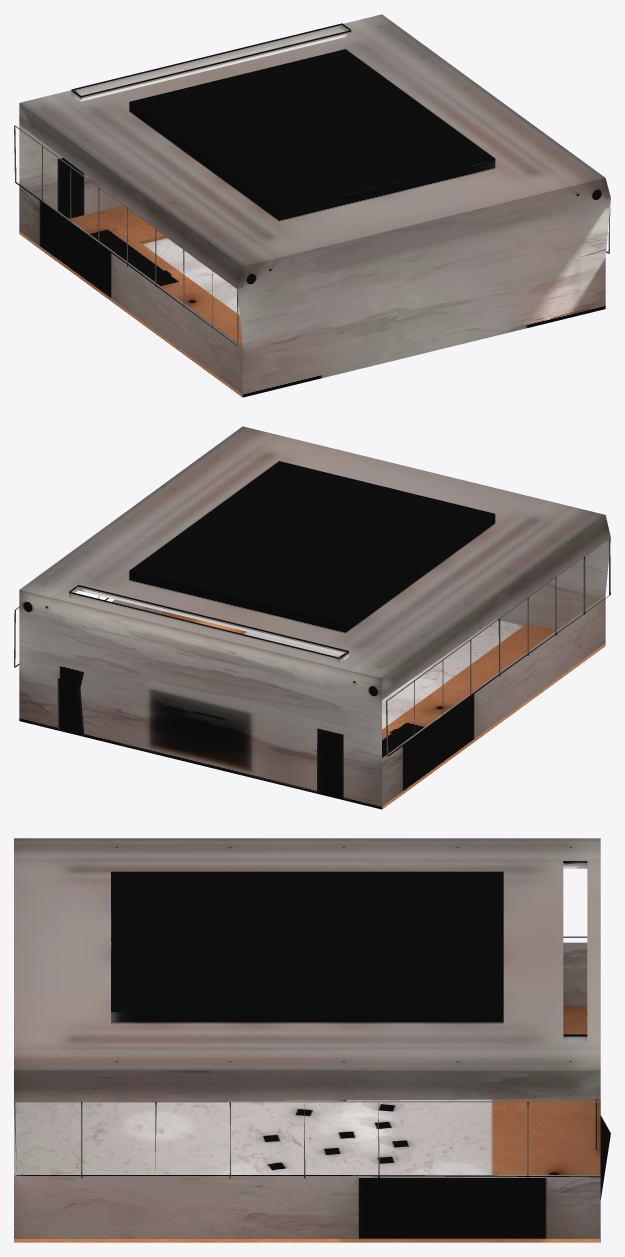
Rendered from HallLowPoly.glb.
The picture shows the model from 3 angles, top to bottom: view 1: azimuth 30°, elevation 25°; view 2: azimuth 150°, elevation 25°; view 3: azimuth 270°, elevation 25°; orthographic projection. The views are drawn at different scales.
Visible parts, largest first — view 1: roof, house, wood floor, floor, frame; view 2: roof, house, wood floor, floor, frame; view 3: roof, house, floor, wood floor, frame.
Boxes of the visible parts, <box> form: roof: <box>20,14,604,266</box>; house: <box>19,29,610,397</box>; wood floor: <box>19,205,242,397</box>; floor: <box>142,238,239,314</box>; frame: <box>14,89,610,346</box>; roof: <box>19,426,604,678</box>; house: <box>19,515,610,809</box>; wood floor: <box>161,611,605,808</box>; floor: <box>243,619,522,729</box>; frame: <box>14,538,610,756</box>; roof: <box>14,838,600,1070</box>; house: <box>14,942,610,1242</box>; floor: <box>14,1099,600,1174</box>; wood floor: <box>14,1006,600,1242</box>; frame: <box>14,861,600,1178</box>.
Size of the model in its own units: 22.93 by 8.29 by 24.18.
6 materials, 6 textured.
